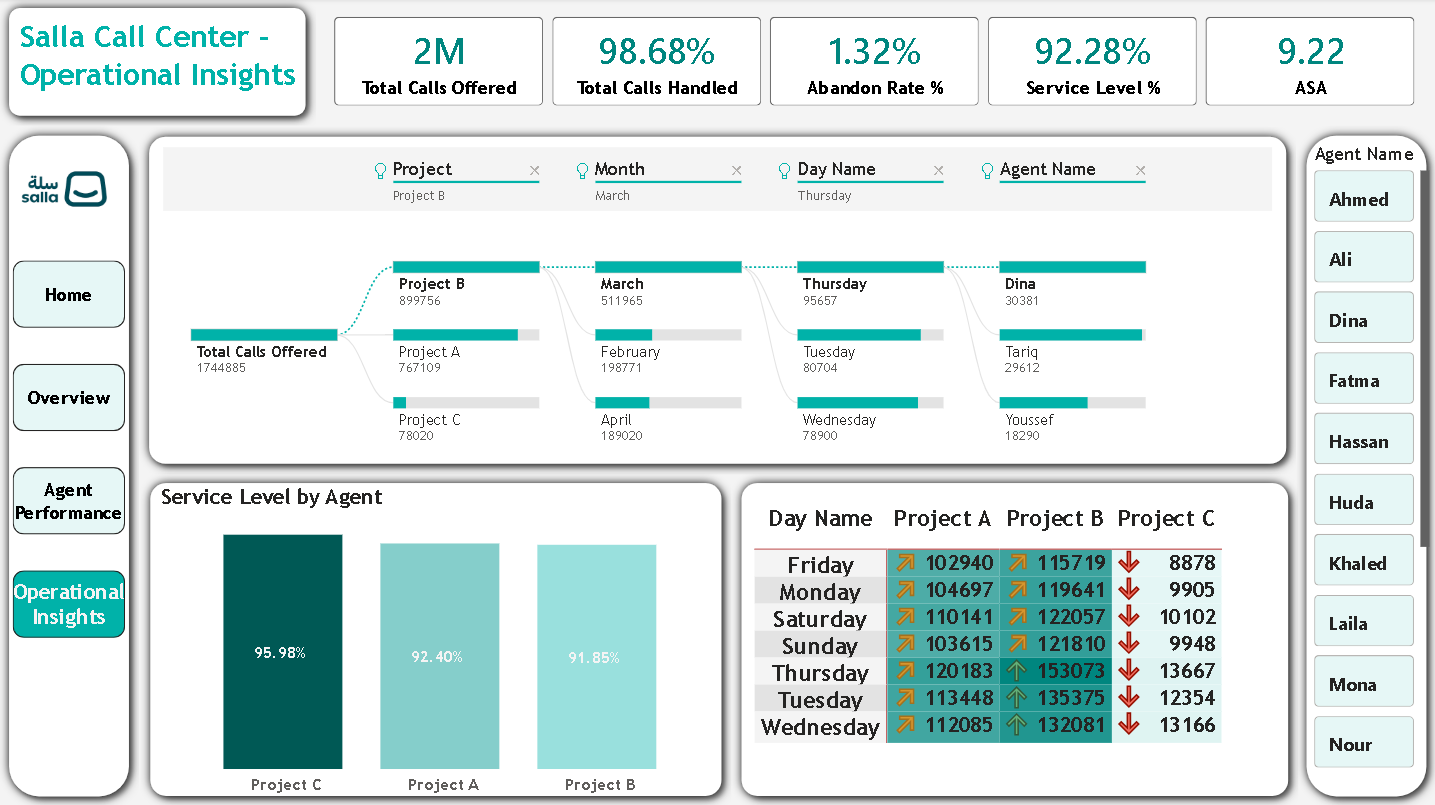

The dashboard page shown, as its layout file describes it:
{"tool":"powerbi","page":{"name":"Operational Insights","canvas":[1280,720],"ordinal":3},"visuals":[{"type":"shape","box":[0,0,282,113.8],"z":0,"group":"g1"},{"type":"shape","box":[0,113.5,124.7,606.5],"z":0},{"type":"group","id":"g1","title":"Group 1","box":[0,0,282,113.8],"z":1000},{"type":"textbox","box":[13.7,12.1,268.4,87.2],"z":1000,"group":"g1"},{"type":"shape","box":[125.2,114.1,1030.7,309.2],"z":2000},{"type":"shape","box":[652.5,423.4,504.8,296.6],"z":3000},{"type":"shape","box":[125.9,423.4,526.6,296.6],"z":4000},{"type":"image","box":[12.1,127.1,92,85.9],"z":5000},{"type":"clusteredColumnChart","title":"Service Level by Agent","fields":{"Y":["Dax_measure.Service Level %"],"Category":["Salla_data.Project"]},"box":[138.6,433.2,513.2,286.8],"z":6000},{"type":"shape","box":[1155.3,113.5,124.7,606.5],"z":7000},{"type":"cardVisual","fields":{"Data":["Dax_measure.Total Calls Offered","Dax_measure.Total Calls Handled","Dax_measure.Abandon Rate %","Dax_measure.Service Level %","Dax_measure.ASA"]},"box":[282,0,997.4,113.8],"z":8000},{"type":"pageNavigator","box":[12.1,233.6,100.5,338.9],"z":9000},{"type":"decompositionTreeVisual","fields":{"Analyze":["Dax_measure.Total Calls Offered"],"ExplainBy":["Salla_data.Project","Salla_data.Month","Salla_data.Day Name","Salla_data.Agent Name"]},"box":[141.1,127.6,997.6,276.1],"z":10000},{"type":"pivotTable","fields":{"Values":["Dax_measure.Total Calls Offered"],"Columns":["Salla_data.Project"],"Rows":["Salla_data.Day Name"]},"box":[667.5,444.2,471.2,249.1],"z":11000},{"type":"advancedSlicerVisual","fields":{"Values":["Salla_data.Agent Name"]},"box":[1166.9,128.3,112.6,571.4],"z":12000}]}

Visuals, with their boxes in screenshot pixels (x1, y1, x2, y2), scaled from the page's 1280x720 canvas onto the 1435x805 screenshot:
shape: <region>0, 0, 316, 127</region>
shape: <region>0, 127, 140, 804</region>
"Group 1" group: <region>0, 0, 316, 127</region>
textbox: <region>15, 14, 316, 111</region>
shape: <region>140, 128, 1296, 473</region>
shape: <region>732, 473, 1297, 804</region>
shape: <region>141, 473, 732, 804</region>
image: <region>14, 142, 117, 238</region>
"Service Level by Agent" clusteredColumnChart: <region>155, 484, 731, 804</region>
shape: <region>1295, 127, 1434, 804</region>
cardVisual - Dax_measure.Total Calls Offered x Dax_measure.Total Calls Handled: <region>316, 0, 1434, 127</region>
pageNavigator: <region>14, 261, 126, 640</region>
decompositionTreeVisual - Dax_measure.Total Calls Offered x Salla_data.Project: <region>158, 143, 1277, 451</region>
pivotTable - Dax_measure.Total Calls Offered x Salla_data.Project: <region>748, 497, 1277, 775</region>
advancedSlicerVisual - Salla_data.Agent Name: <region>1308, 143, 1434, 782</region>
